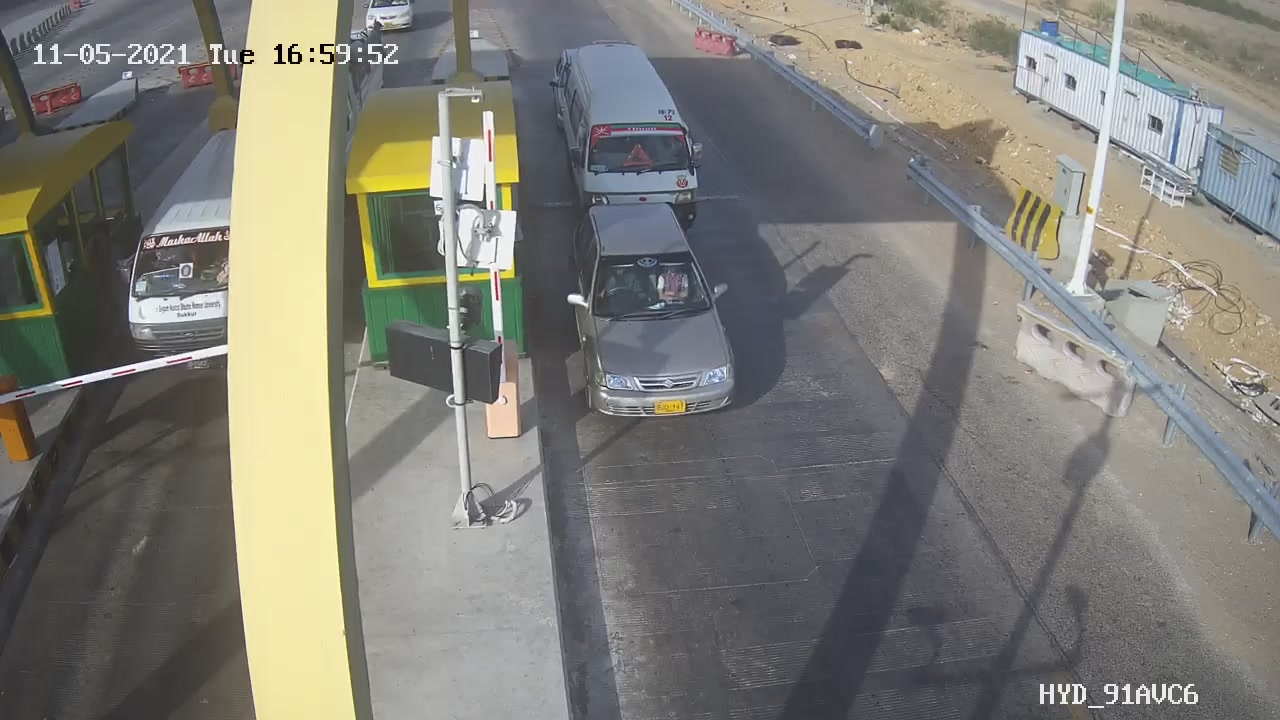F1: (552, 188, 756, 434)
